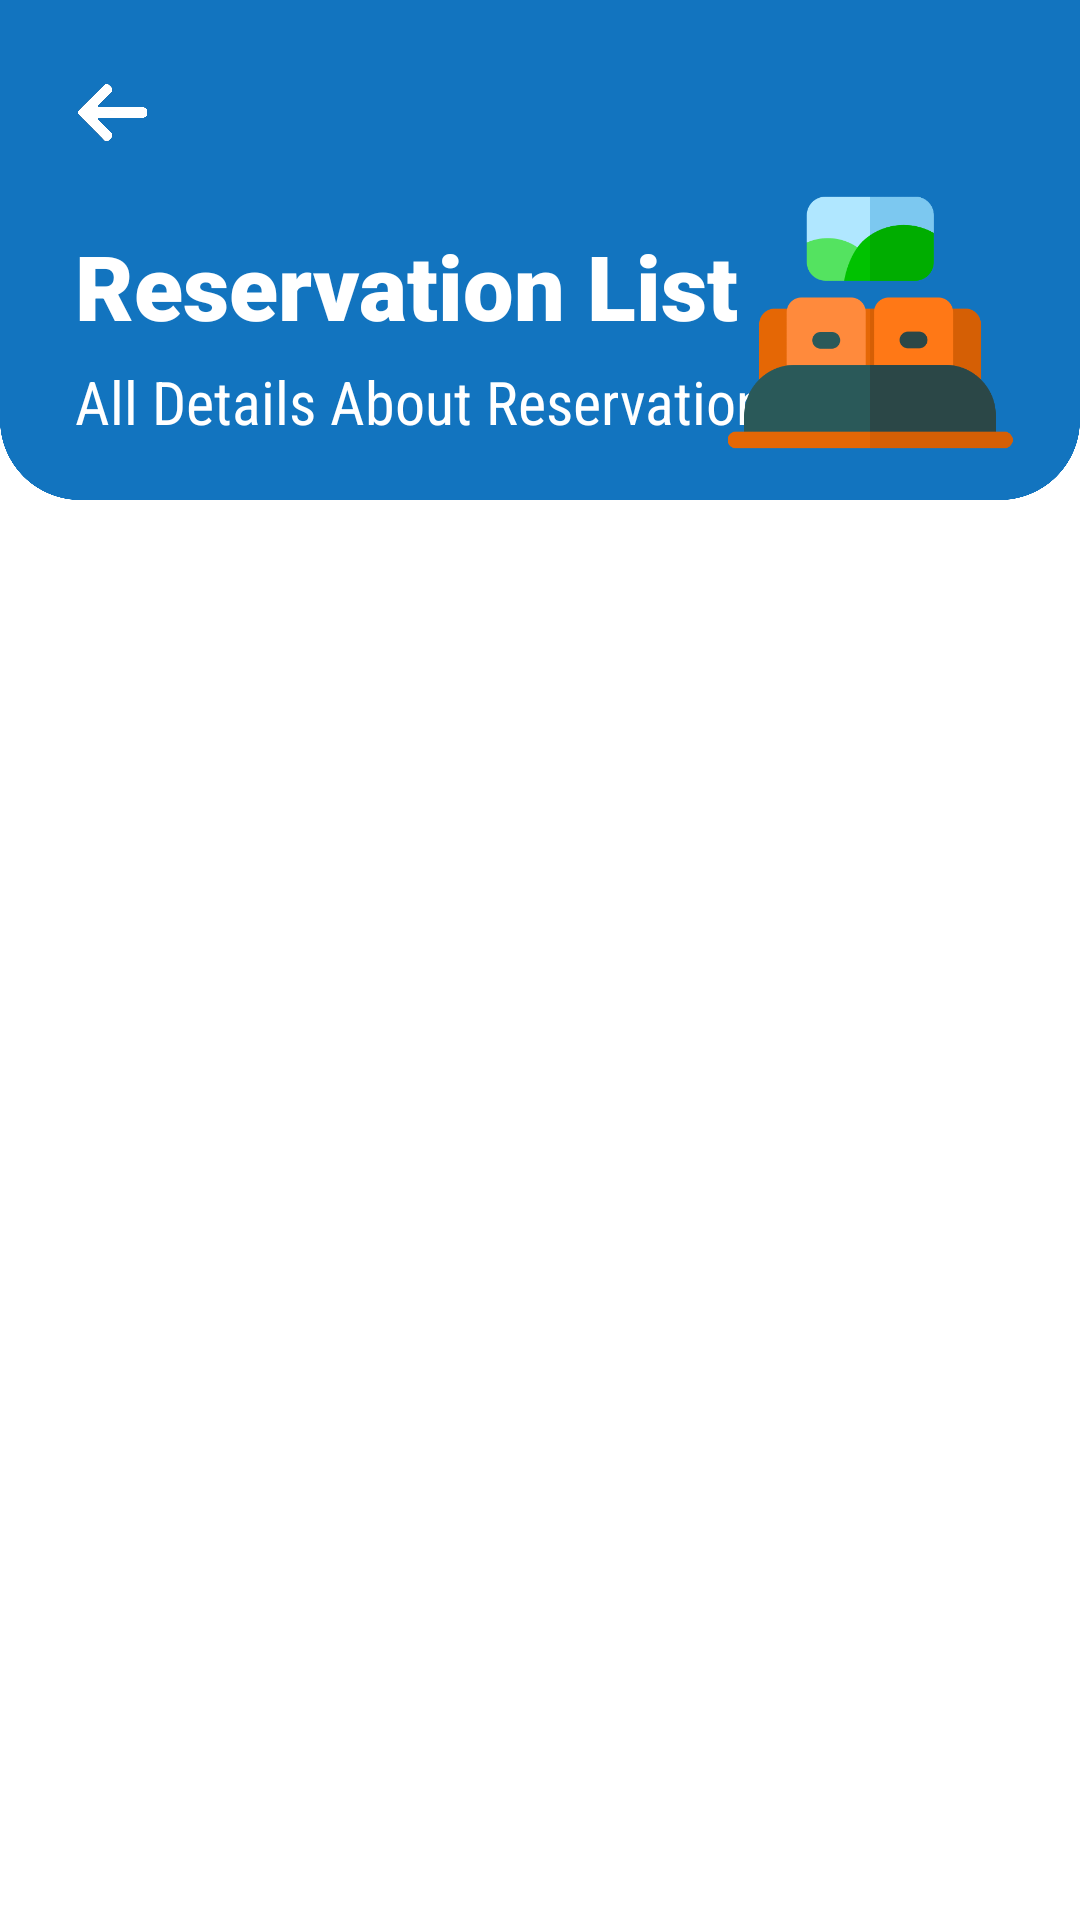

Icon bounding boxes for this 1080 x 1920 phone screenshot, format (x1, y1, x2, y2):
back: (78, 84, 147, 141)
bed: (728, 197, 1013, 449)
